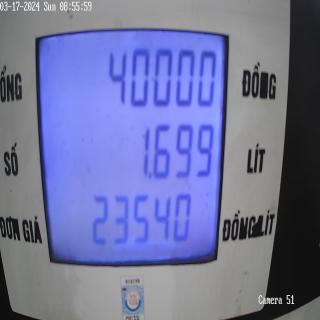screen: (32, 9, 233, 274)
